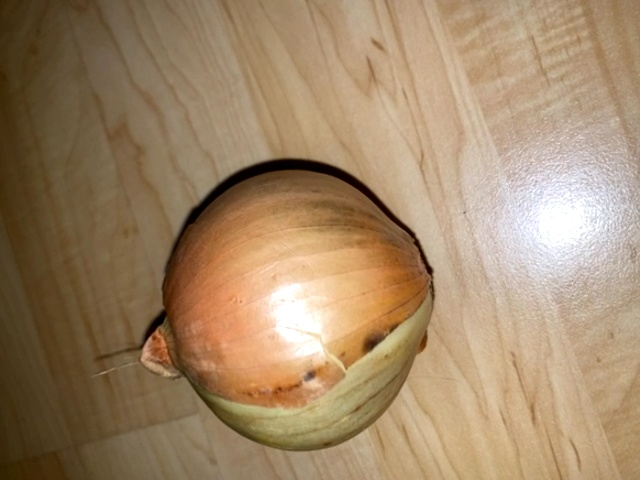onion: (77, 155, 452, 458)
